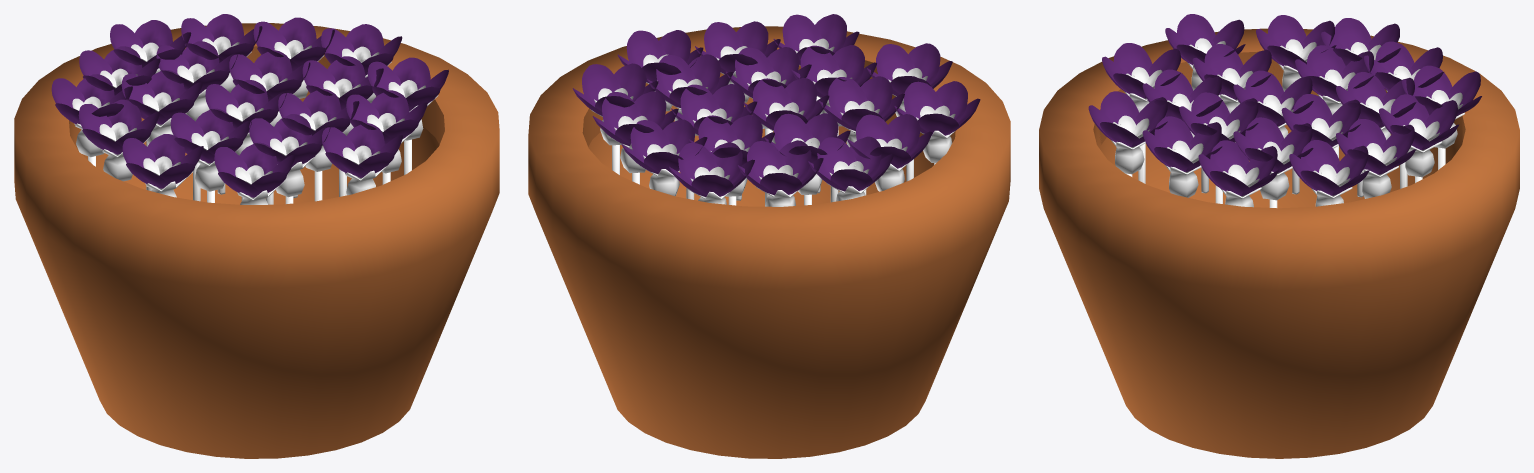
Rendered from OTOÑOPENSAMIENTO .fbx.
The picture shows the model from 3 angles, left to right: view 1: azimuth 30°, elevation 25°; view 2: azimuth 150°, elevation 25°; view 3: azimuth 270°, elevation 25°; orthographic projection.
Visible parts, largest first — view 1: FLORPENSAMIENTO; view 2: FLORPENSAMIENTO; view 3: FLORPENSAMIENTO.
Boxes of the visible parts, bbox=[...] form: FLORPENSAMIENTO: bbox=[14, 14, 499, 458]; FLORPENSAMIENTO: bbox=[528, 14, 1010, 458]; FLORPENSAMIENTO: bbox=[1039, 14, 1519, 458].
Size of the model in its own units: 87.14 by 59.95 by 87.14.
